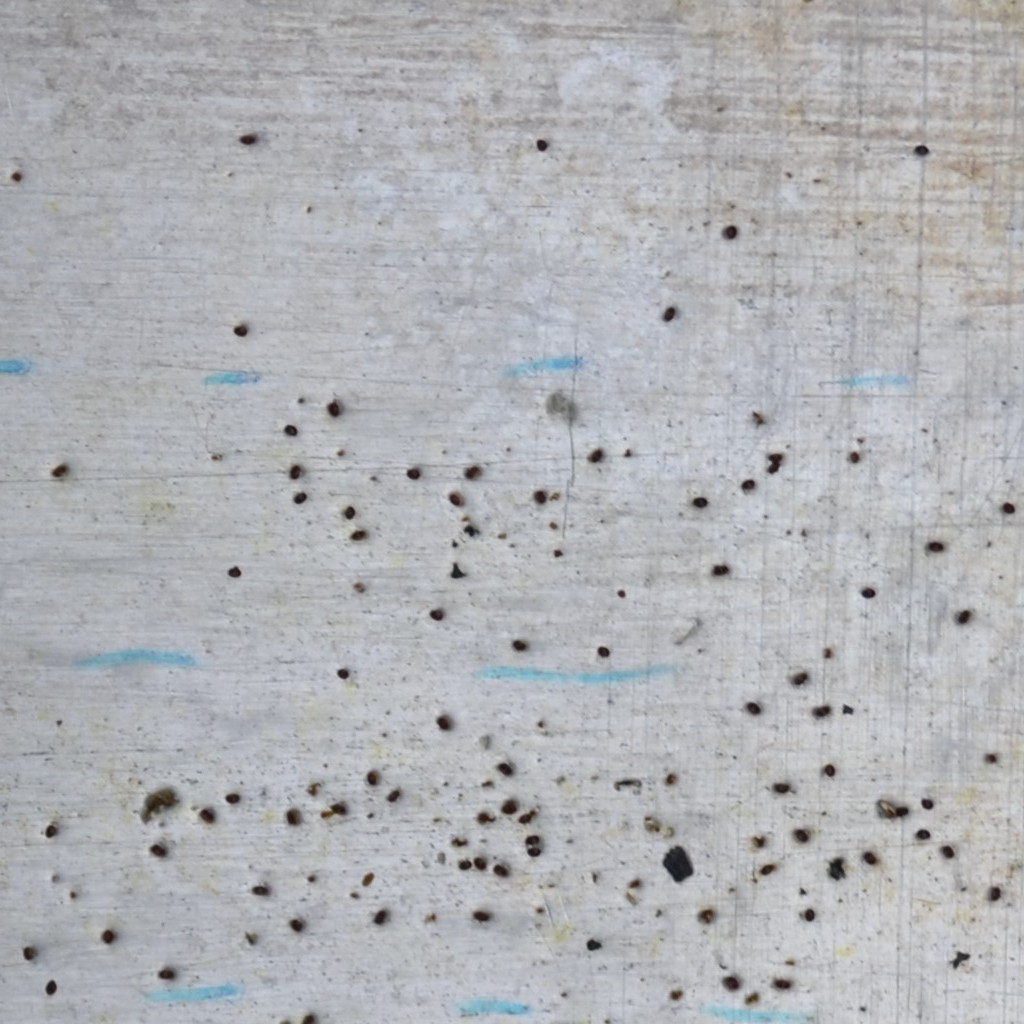varroa: (717, 971, 742, 992), (585, 935, 606, 958), (471, 906, 494, 927), (771, 775, 791, 798), (662, 300, 677, 330), (499, 795, 518, 818), (428, 604, 448, 625), (595, 637, 614, 659), (433, 710, 452, 732), (372, 905, 388, 930), (711, 561, 734, 578), (283, 806, 302, 826), (912, 823, 933, 841), (745, 696, 763, 717), (148, 840, 169, 858), (99, 927, 117, 948), (198, 805, 215, 827), (723, 220, 739, 243), (496, 759, 515, 778), (913, 141, 931, 161), (349, 526, 369, 544), (511, 636, 529, 656), (326, 398, 342, 420), (238, 128, 257, 146), (232, 321, 250, 340), (281, 421, 301, 438), (861, 846, 878, 866), (821, 761, 838, 781), (51, 462, 68, 482), (811, 704, 832, 720), (457, 854, 473, 875), (491, 863, 509, 881), (774, 975, 793, 992), (403, 464, 422, 481), (287, 461, 302, 482), (361, 868, 376, 889), (764, 449, 786, 463), (473, 852, 487, 874), (956, 607, 973, 625), (759, 860, 777, 877), (474, 809, 491, 827), (988, 883, 1004, 902), (223, 789, 242, 805), (43, 978, 59, 997), (292, 487, 307, 507), (926, 539, 946, 554), (365, 767, 379, 788), (155, 965, 176, 979), (22, 942, 36, 963), (941, 843, 958, 860), (740, 476, 757, 493), (42, 823, 59, 840), (1002, 498, 1018, 516), (449, 485, 461, 509), (535, 488, 548, 510), (251, 882, 270, 897), (793, 670, 809, 687), (533, 138, 551, 153), (860, 583, 878, 598), (225, 563, 243, 578), (588, 445, 602, 464), (921, 794, 936, 811), (10, 167, 24, 185), (803, 904, 817, 922), (335, 662, 349, 680), (331, 803, 349, 817), (526, 845, 543, 859), (290, 916, 304, 933), (343, 502, 355, 521), (985, 751, 1001, 765), (793, 827, 809, 841), (524, 831, 540, 845), (300, 1010, 317, 1023), (847, 449, 863, 462), (693, 496, 709, 508)
